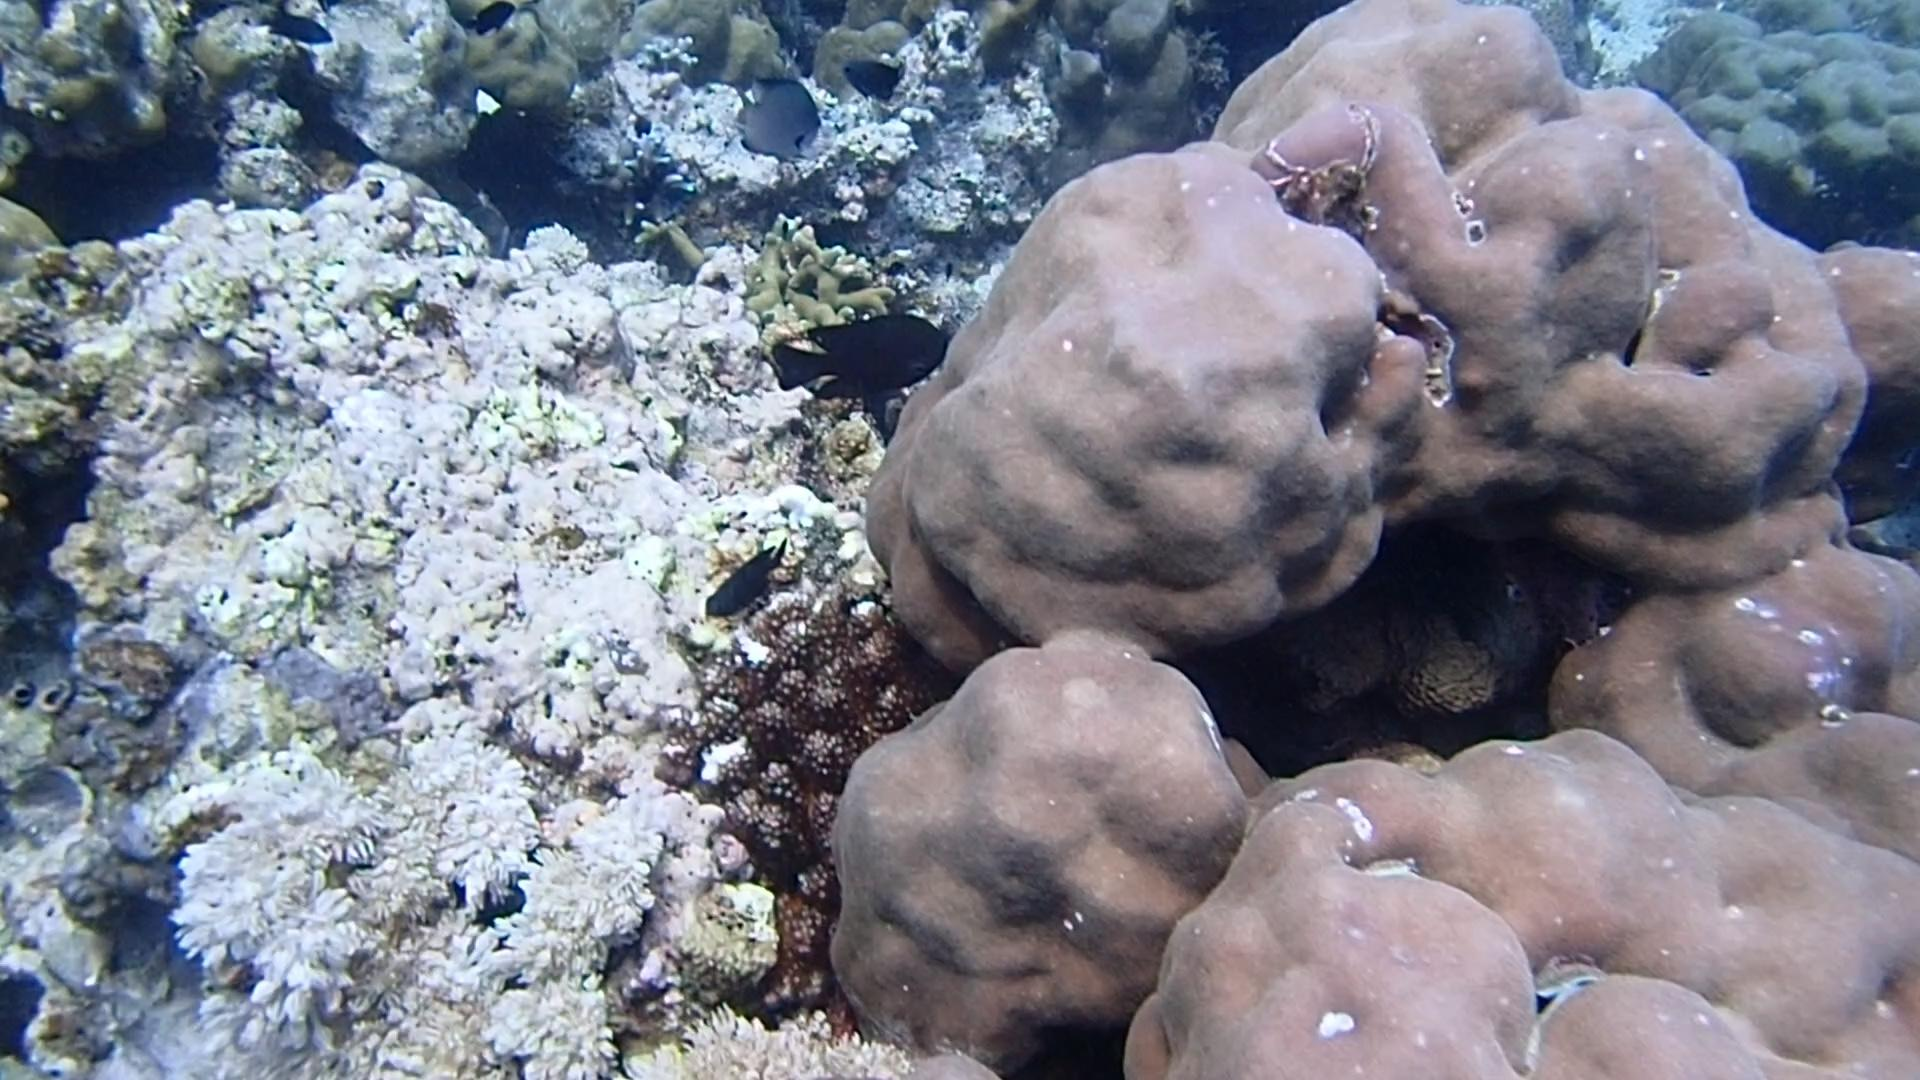Dark Fish: (762, 305, 960, 413), (698, 531, 793, 630), (256, 8, 342, 53), (839, 51, 898, 113), (462, 0, 518, 41)
Light Fish - Dark Fin: (727, 71, 831, 167)
